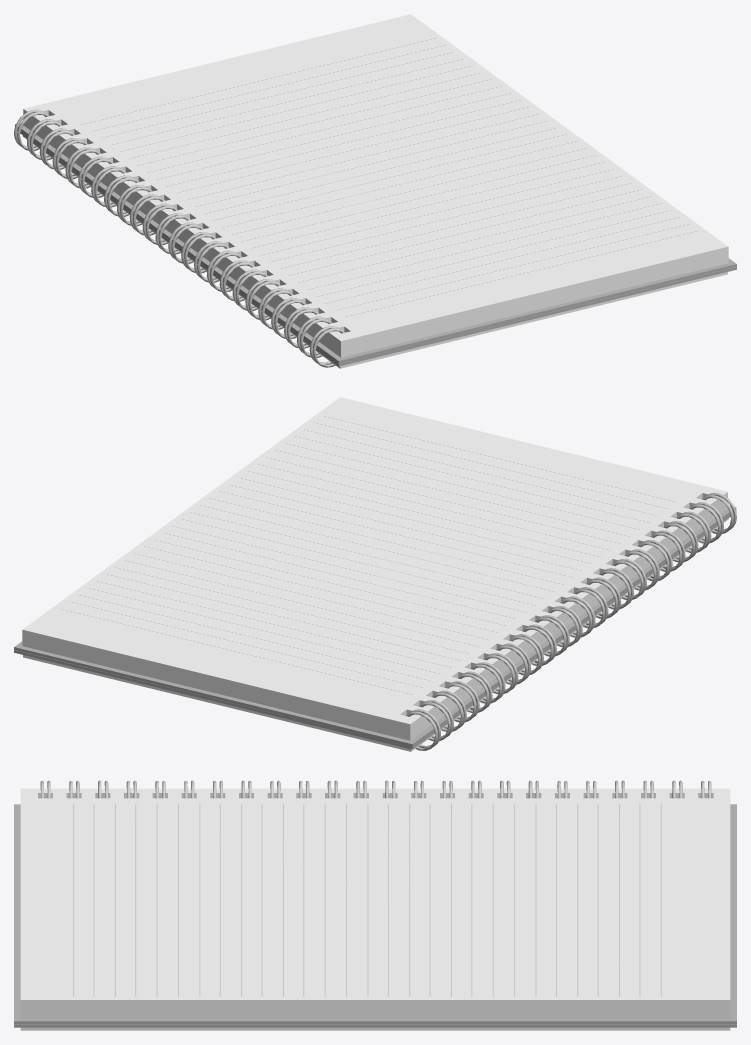
Rendered from 437_リングノート開2.glb.
3 renders of one model, top to bottom at view 1: azimuth 30°, elevation 25°; view 2: azimuth 150°, elevation 25°; view 3: azimuth 270°, elevation 25°, orthographic. The views are drawn at different scales.
Visible parts, largest first — view 1: youshi2, ring, daishi_ura, hyoushi, youshi1; view 2: youshi2, ring, daishi_ura, hyoushi, youshi1; view 3: youshi2, daishi_ura, ring, hyoushi, youshi1.
Part boxes in pixels (x1,y1,x2,y2): youshi2: [23, 14, 728, 357]; ring: [14, 109, 344, 367]; daishi_ura: [15, 123, 736, 363]; hyoushi: [17, 129, 736, 366]; youshi1: [22, 135, 727, 368]; youshi2: [22, 397, 727, 740]; ring: [406, 492, 736, 750]; daishi_ura: [14, 505, 736, 746]; hyoushi: [14, 510, 736, 749]; youshi1: [23, 518, 728, 751]; youshi2: [20, 788, 730, 1018]; daishi_ura: [14, 804, 736, 1024]; ring: [40, 780, 711, 798]; hyoushi: [14, 1024, 736, 1027]; youshi1: [20, 1027, 730, 1030].
Size of the model in its own units: 0.1571 by 0.0139 by 0.214.
4 materials, 1 textured.
